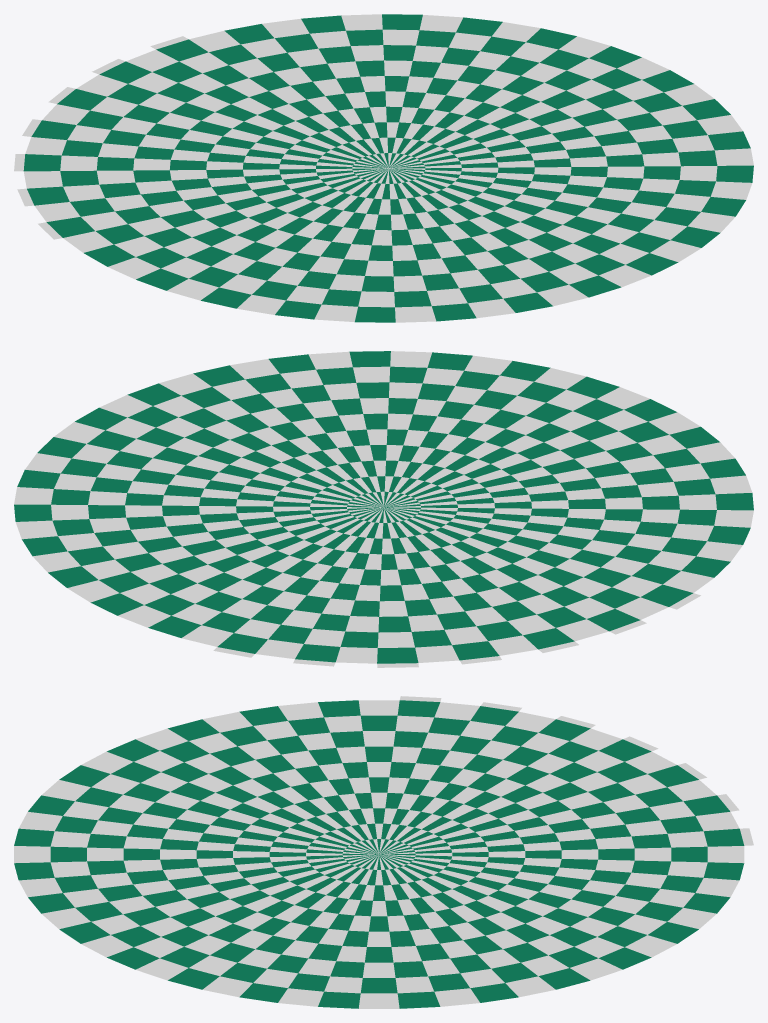
Rendered from quarantine.floor.fbx.
3 views of the same model, one above another, from view 1: azimuth 30°, elevation 25°; view 2: azimuth 150°, elevation 25°; view 3: azimuth 270°, elevation 25° (orthographic).
Visible parts, largest first — view 1: Floor; view 2: Floor; view 3: Floor.
Part boxes in pixels (x1,y1,x2,y2): Floor: (14,14,753,322); Floor: (14,351,753,667); Floor: (14,696,753,1008).
Bounding box in the file's own units: 2023 × 0 × 2023.
